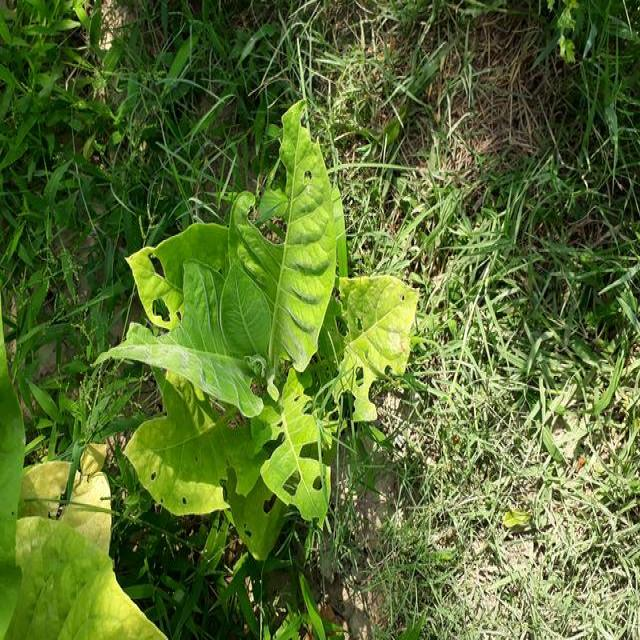crop: (120, 120, 412, 540), (0, 372, 154, 640)
